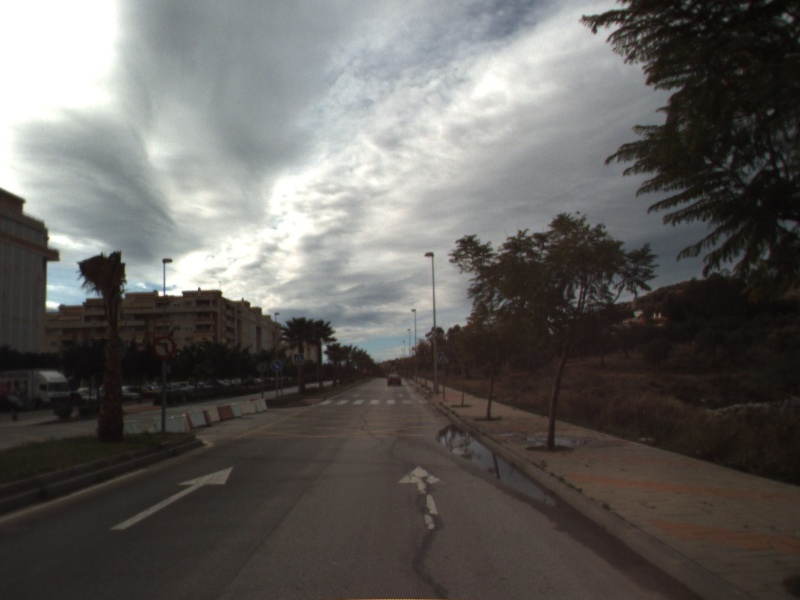STRAIGHT: (107, 464, 236, 532), (395, 463, 448, 531)
